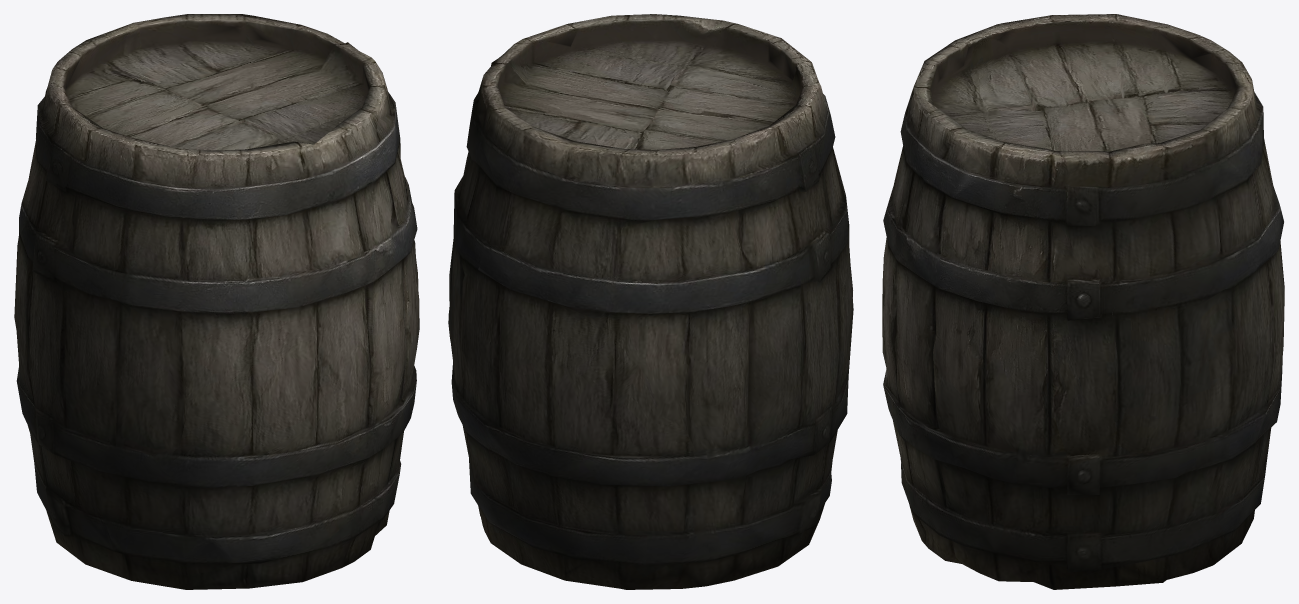
The model's file is barrel_upright_hd.glb.
3 views of the same model, side by side, from view 1: azimuth 30°, elevation 25°; view 2: azimuth 150°, elevation 25°; view 3: azimuth 270°, elevation 25° (orthographic).
Parts seen in each view (by area): view 1: tripo_node_81579728-15bd-4531-a574-77297200f8ef; view 2: tripo_node_81579728-15bd-4531-a574-77297200f8ef; view 3: tripo_node_81579728-15bd-4531-a574-77297200f8ef.
Part boxes in pixels (bbox=[...]): tripo_node_81579728-15bd-4531-a574-77297200f8ef: bbox=[14, 14, 419, 589]; tripo_node_81579728-15bd-4531-a574-77297200f8ef: bbox=[448, 14, 853, 589]; tripo_node_81579728-15bd-4531-a574-77297200f8ef: bbox=[882, 14, 1284, 589].
Bounding box in the file's own units: 0.8481 × 1 × 0.8345.
1 material, 1 textured.
